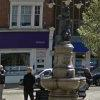Statue: (50, 10, 79, 54)
